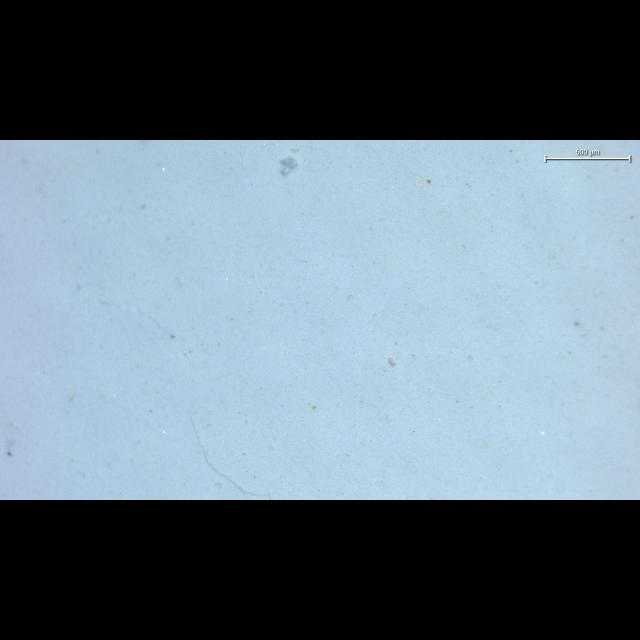Fibre: (190, 417, 272, 500)
Fragment: (280, 156, 298, 176)
